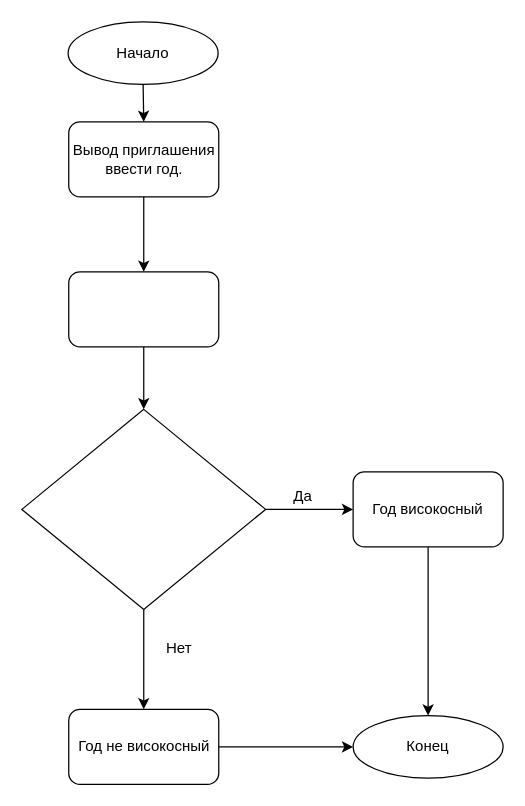
Image size: 525x806. Some labels were removed from this diagram. The shapes that lost their labels are listed below. From the top down, each one's centre as x and y in pixels, then its label:
At point 143,309: "Ввод года с клавиатуры.".
At point 143,508: "Проверка условий: число (кратно 4 и не кратно 100) или кратно 400".
